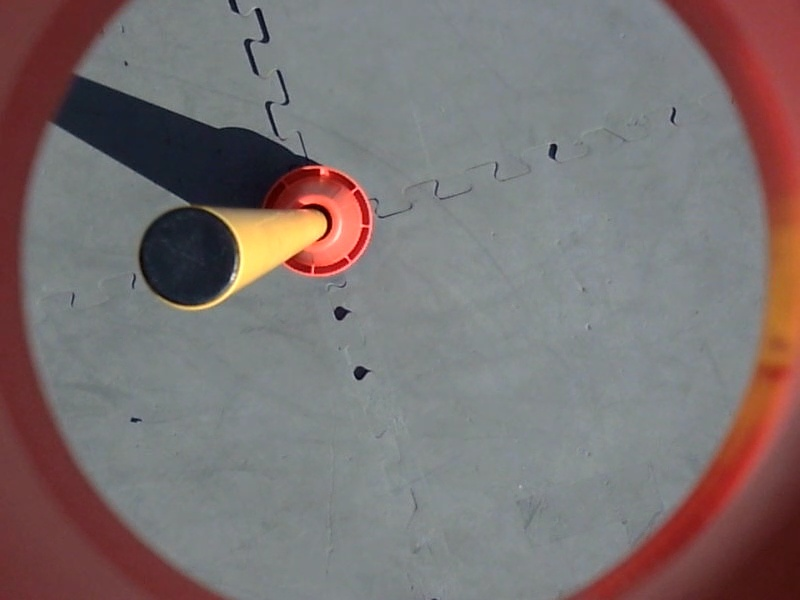tip: (133, 200, 249, 311)
